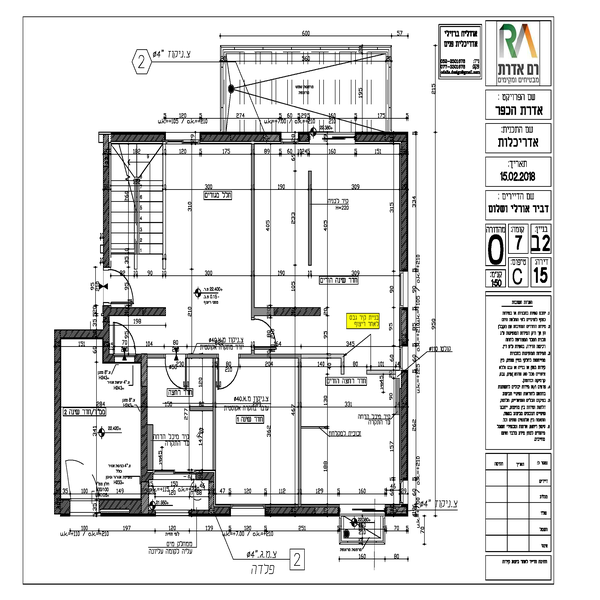door: (216, 353, 247, 397), (102, 270, 137, 306), (164, 355, 194, 397), (111, 321, 137, 364), (253, 316, 279, 353)
room: (247, 128, 414, 317), (102, 127, 258, 317), (143, 352, 307, 522), (293, 349, 415, 520), (53, 326, 157, 516)
wall: (140, 356, 150, 498), (56, 329, 63, 510), (398, 373, 409, 478), (103, 140, 111, 270), (400, 142, 408, 269), (265, 504, 339, 517), (254, 307, 323, 320), (200, 132, 280, 143), (98, 499, 150, 515), (104, 131, 165, 143), (353, 132, 407, 144), (105, 309, 163, 317), (399, 309, 409, 344), (196, 472, 215, 483)
window: (307, 130, 350, 145), (166, 129, 198, 147), (235, 503, 264, 517), (399, 274, 411, 303), (397, 344, 411, 366)
